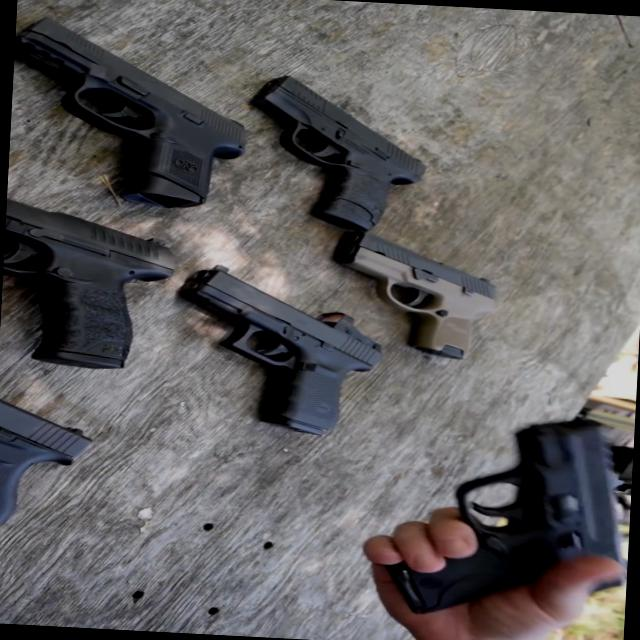handgun: (393, 410, 629, 628), (33, 10, 260, 232), (0, 185, 197, 394), (242, 68, 448, 248), (178, 264, 384, 440), (332, 224, 541, 367)
